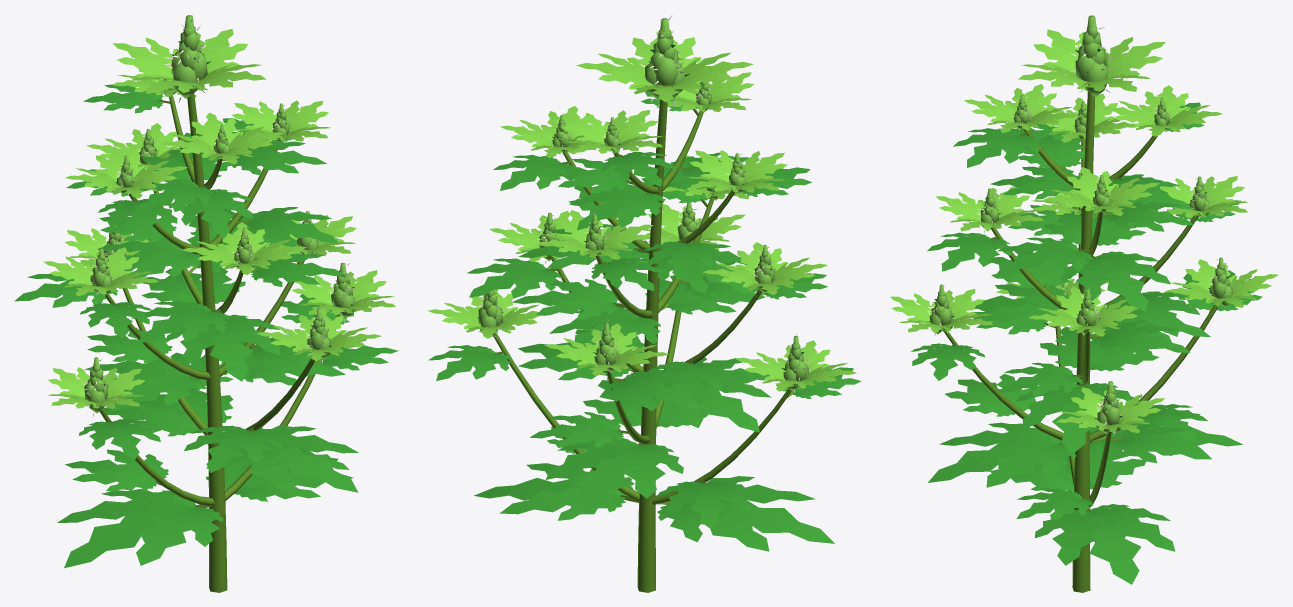
Rendered from Weed_Plant_S3_Flowering.glb.
The picture shows the model from 3 angles, left to right: view 1: azimuth 30°, elevation 25°; view 2: azimuth 150°, elevation 25°; view 3: azimuth 270°, elevation 25°; orthographic projection. The views are drawn at different scales.
Parts seen in each view (by area): view 1: Weed_Plant_S3_Flowering_Plant, Weed_Plant_S3_Flowering; view 2: Weed_Plant_S3_Flowering_Plant, Weed_Plant_S3_Flowering; view 3: Weed_Plant_S3_Flowering_Plant, Weed_Plant_S3_Flowering.
Boxes of the visible parts, bbox=[...] form: Weed_Plant_S3_Flowering_Plant: bbox=[14, 29, 398, 592]; Weed_Plant_S3_Flowering: bbox=[81, 15, 357, 417]; Weed_Plant_S3_Flowering_Plant: bbox=[427, 30, 861, 592]; Weed_Plant_S3_Flowering: bbox=[477, 15, 813, 392]; Weed_Plant_S3_Flowering_Plant: bbox=[890, 29, 1278, 592]; Weed_Plant_S3_Flowering: bbox=[926, 15, 1234, 435].
Size of the model in its own units: 0.4809 by 0.7034 by 0.4405.
